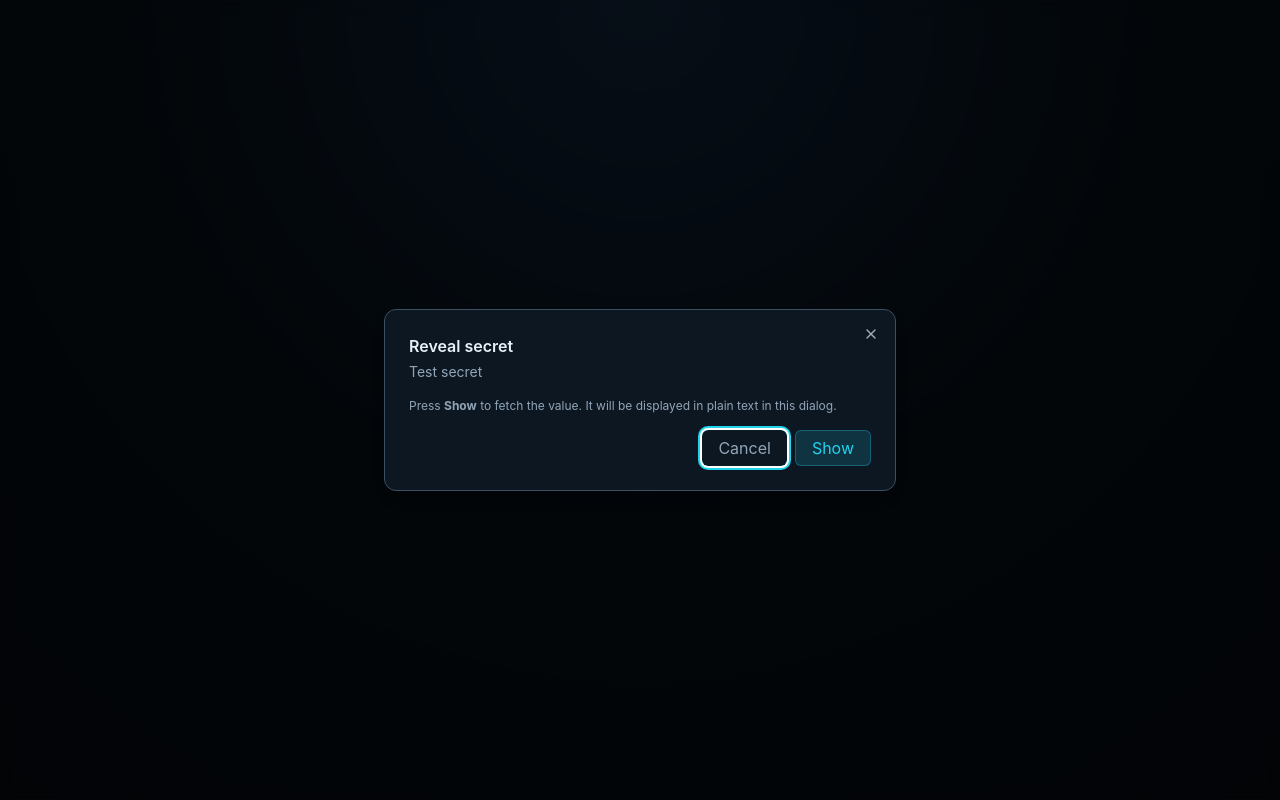
Test: RevealSecretView › renders and copies an empty secret instead of treating it as missing
Later steps or results of the test are not shown.
Click the button "Show". click: (833, 448)
box: [795,430,871,466]
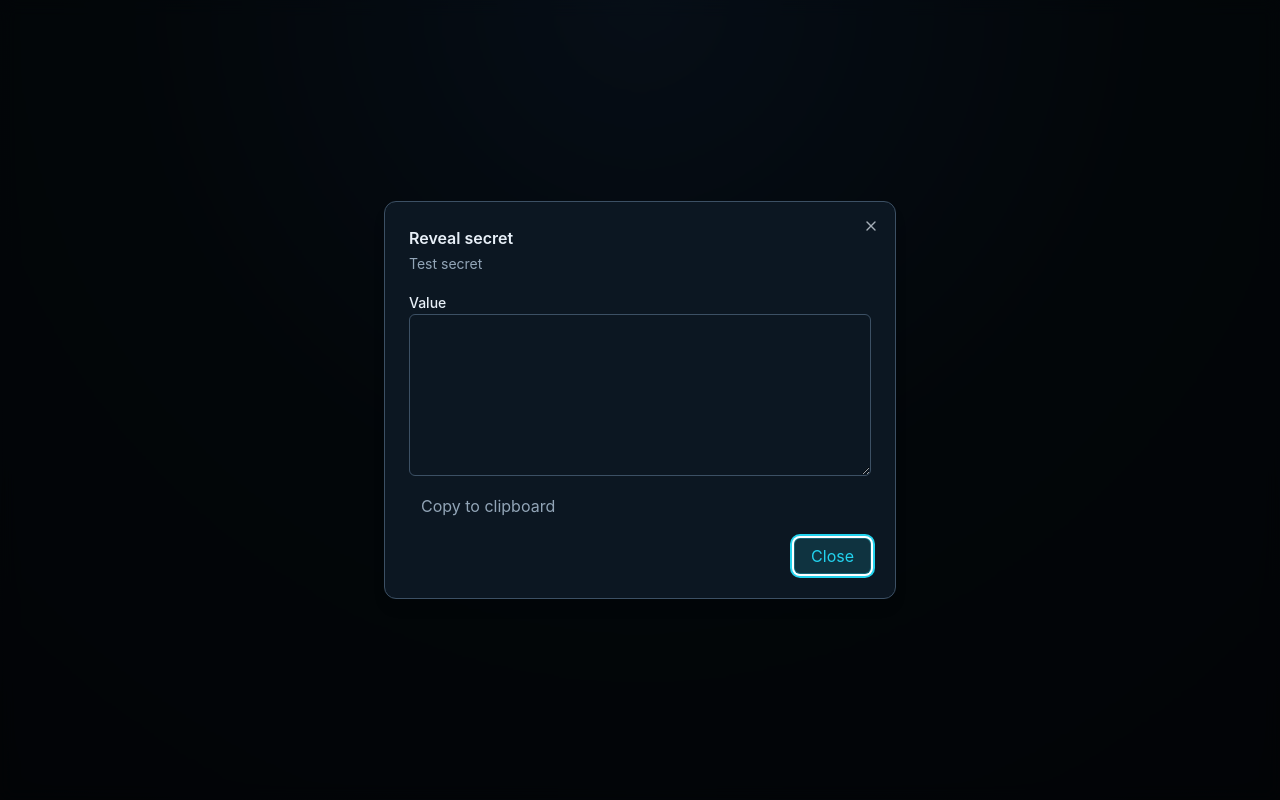
Check: the text box with test id "revealed-secret" is empty, box [409,314,871,476]
